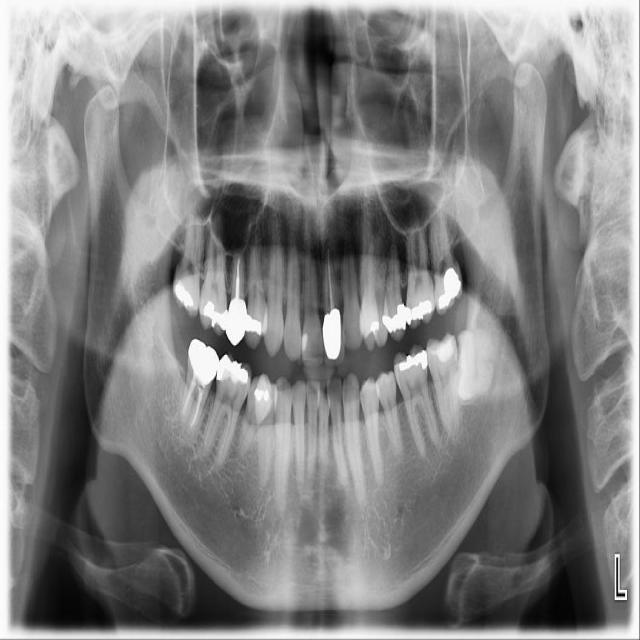52: (204, 351, 260, 408), (388, 342, 435, 394), (184, 333, 225, 388), (170, 258, 203, 320), (196, 281, 230, 334), (432, 261, 464, 316), (242, 375, 277, 423), (423, 332, 461, 376), (359, 297, 388, 352), (406, 278, 436, 328), (224, 296, 249, 347), (244, 301, 269, 350), (382, 296, 407, 342), (322, 308, 342, 360), (302, 320, 323, 368)
73: (176, 351, 217, 435), (319, 239, 340, 314), (230, 255, 245, 302), (608, 560, 616, 566)
BioHorizons Implant: (426, 191, 464, 316)
Biomet 3i Implant: (457, 329, 495, 401)
Blue Sky Bio Implant: (425, 331, 462, 441)
Caries: (169, 205, 209, 319)
Implant: (176, 338, 223, 436)
